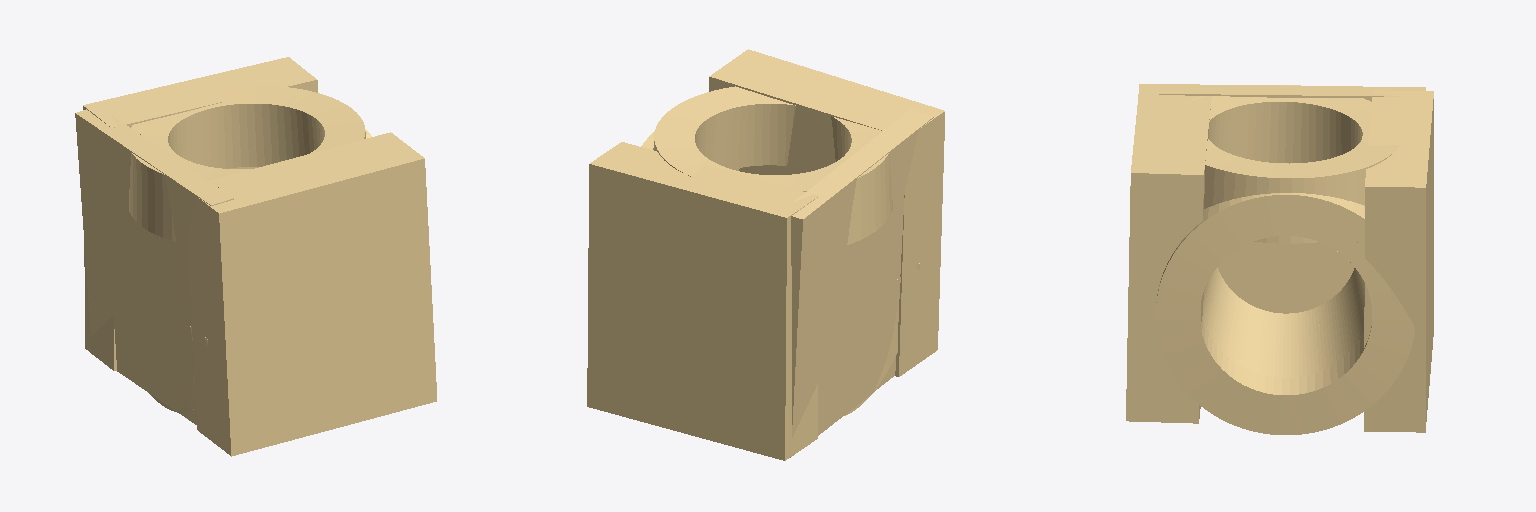
Rendered from wooden_cube.obj.
3 renders of one model, left to right at view 1: azimuth 30°, elevation 25°; view 2: azimuth 150°, elevation 25°; view 3: azimuth 270°, elevation 25°, orthographic.
Parts seen in each view (by area): view 1: wooden_cube; view 2: wooden_cube; view 3: wooden_cube.
Boxes of the visible parts, box(x1,y1,x2,y2) form: wooden_cube: box(75, 57, 436, 456); wooden_cube: box(587, 49, 944, 460); wooden_cube: box(1126, 84, 1433, 434).
Size of the model in its own units: 0.2771 by 0.3086 by 0.3338.